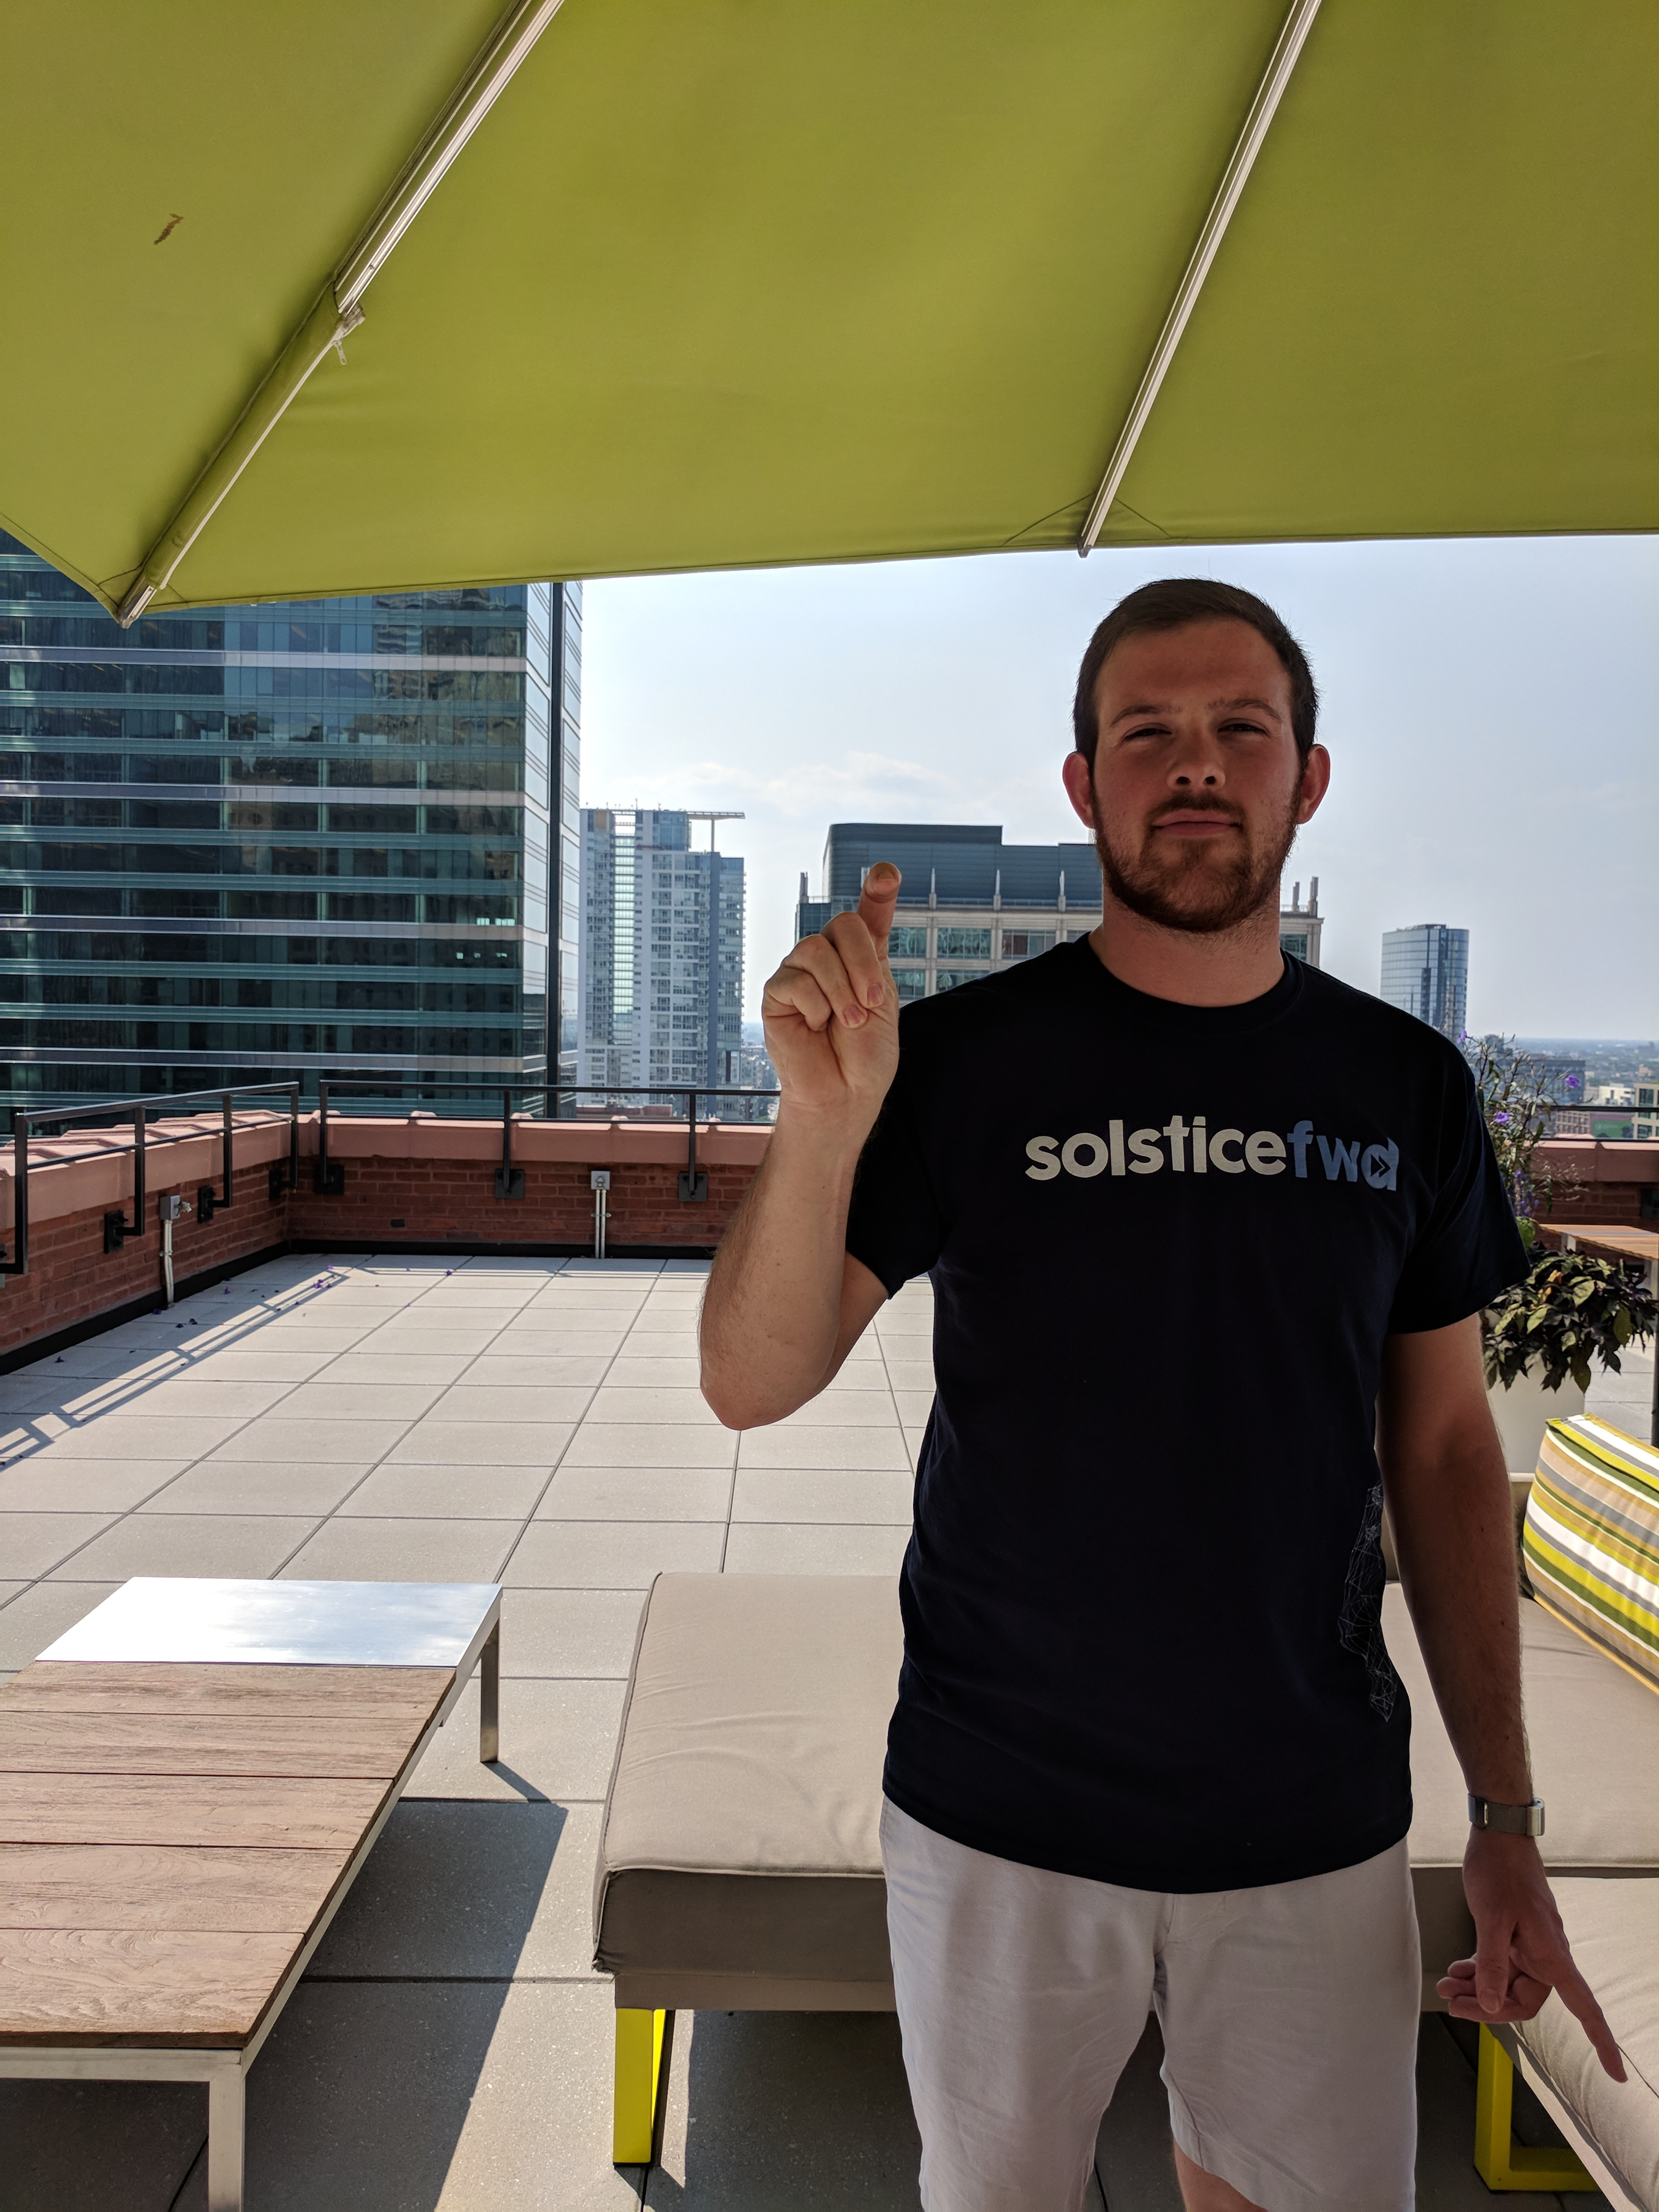x: (756, 855, 913, 1111)
